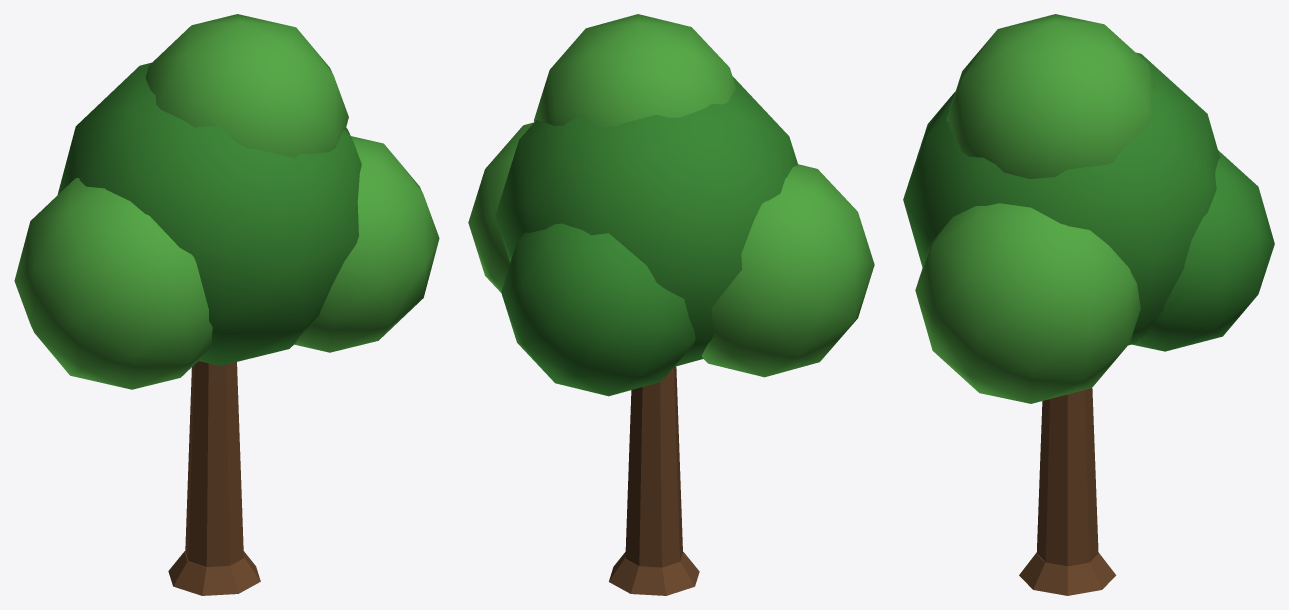
File: yard_tree.glb
3 renders of one model, left to right at view 1: azimuth 30°, elevation 25°; view 2: azimuth 150°, elevation 25°; view 3: azimuth 270°, elevation 25°, orthographic. The views are drawn at different scales.
Visible parts, largest first — view 1: anim_sway_canopy, body; view 2: anim_sway_canopy, body; view 3: anim_sway_canopy, body.
Boxes of the visible parts, <box> form: anim_sway_canopy: <box>14,14,439,389</box>; body: <box>168,361,260,595</box>; anim_sway_canopy: <box>468,14,874,396</box>; body: <box>609,366,699,595</box>; anim_sway_canopy: <box>903,14,1274,403</box>; body: <box>1019,388,1116,595</box>.
Size of the model in its own units: 3.66 by 5.1 by 3.05.
